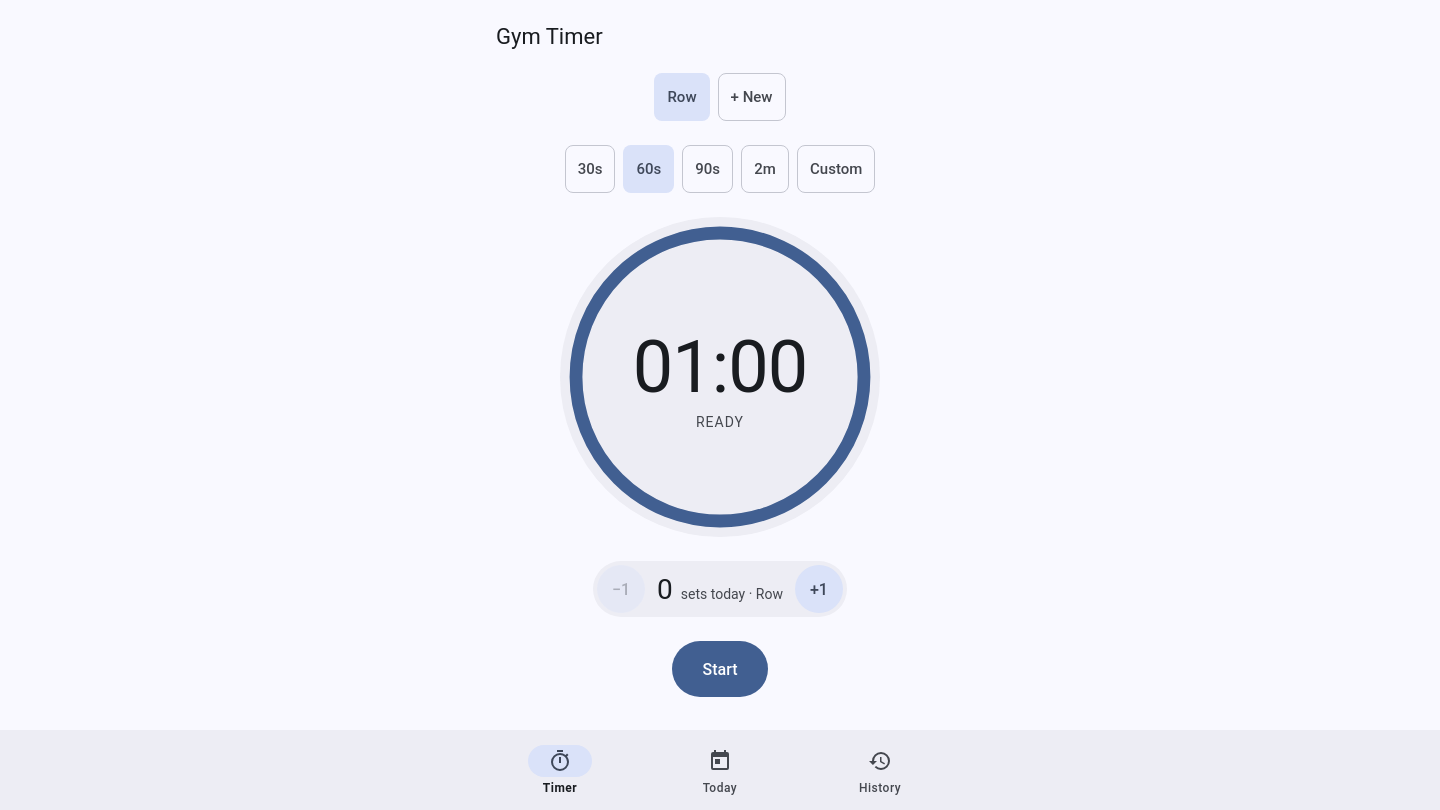
Test case: Today › shows an empty state with no sets today
Click the button "Today" at (720,770), box [640, 730, 800, 809]
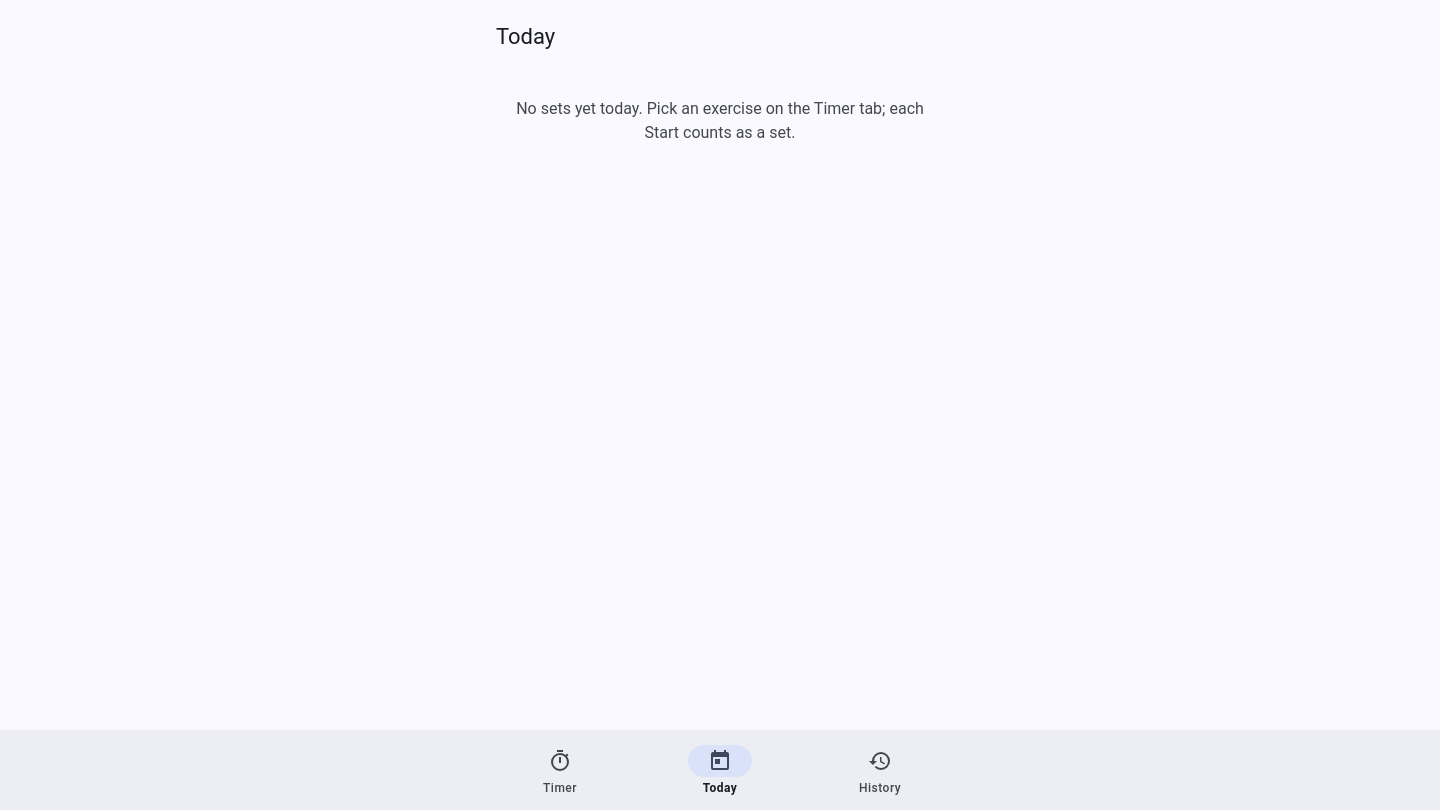
Check: the text "No sets yet today" is shown, box [516, 99, 924, 142]
